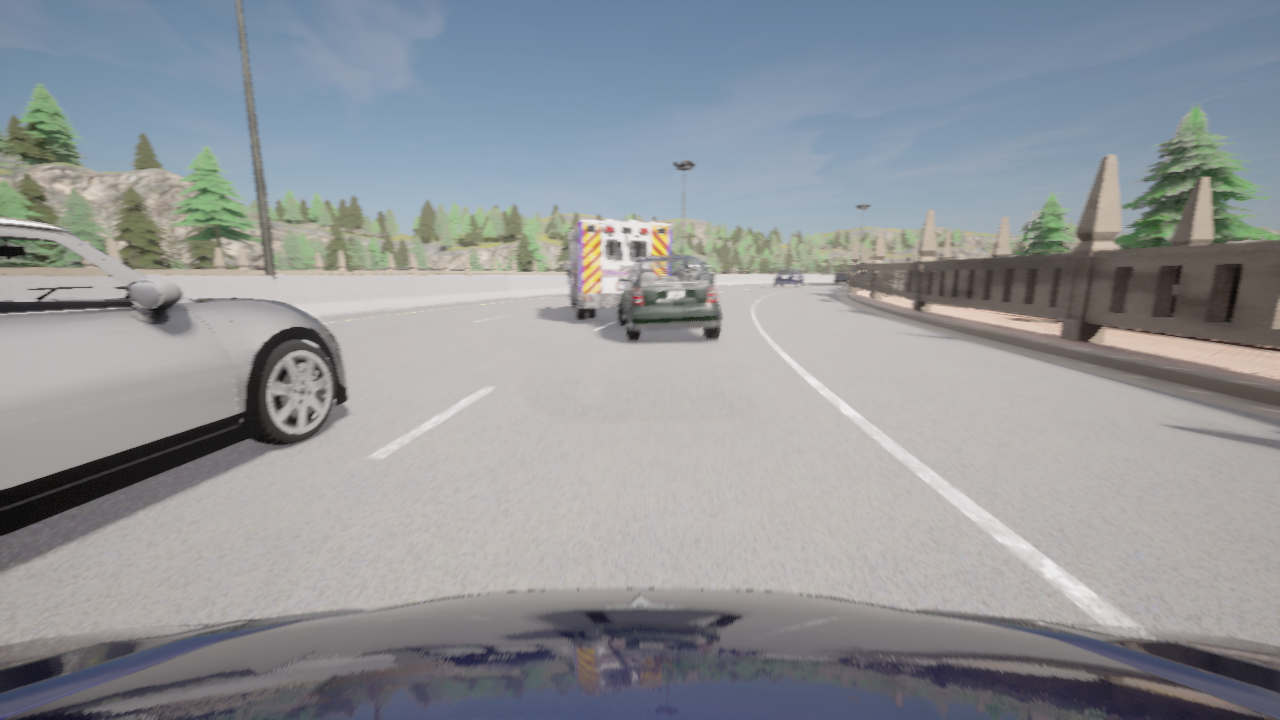cyclist: (0, 588, 1279, 719), (562, 219, 671, 318), (617, 255, 721, 340), (773, 268, 804, 287), (704, 264, 715, 281), (834, 271, 847, 283), (566, 269, 569, 284)
